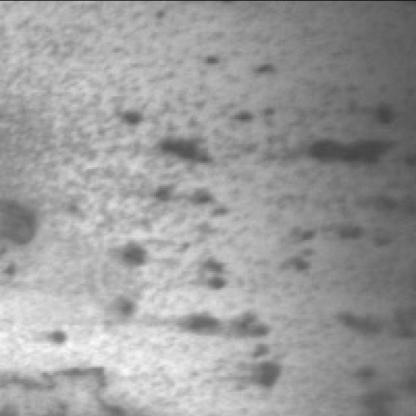patches: (0, 360, 125, 416), (0, 193, 40, 256)
pitted_surface: (13, 10, 276, 398), (187, 25, 406, 343)
